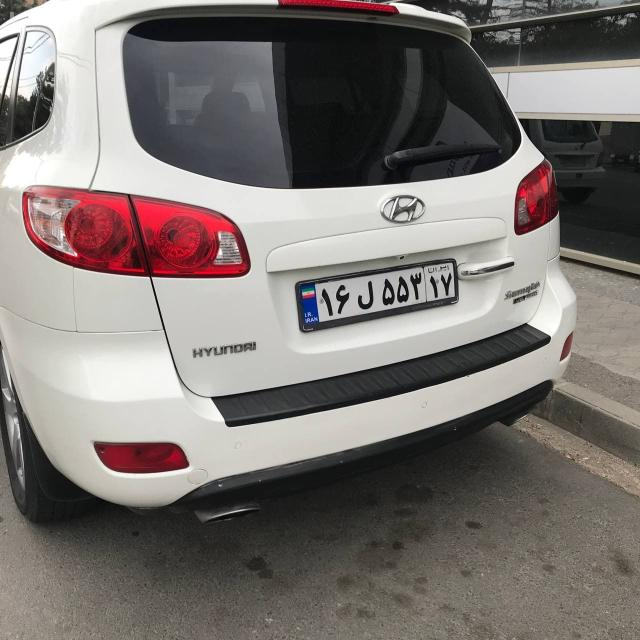Plates: (298, 257, 459, 325)
